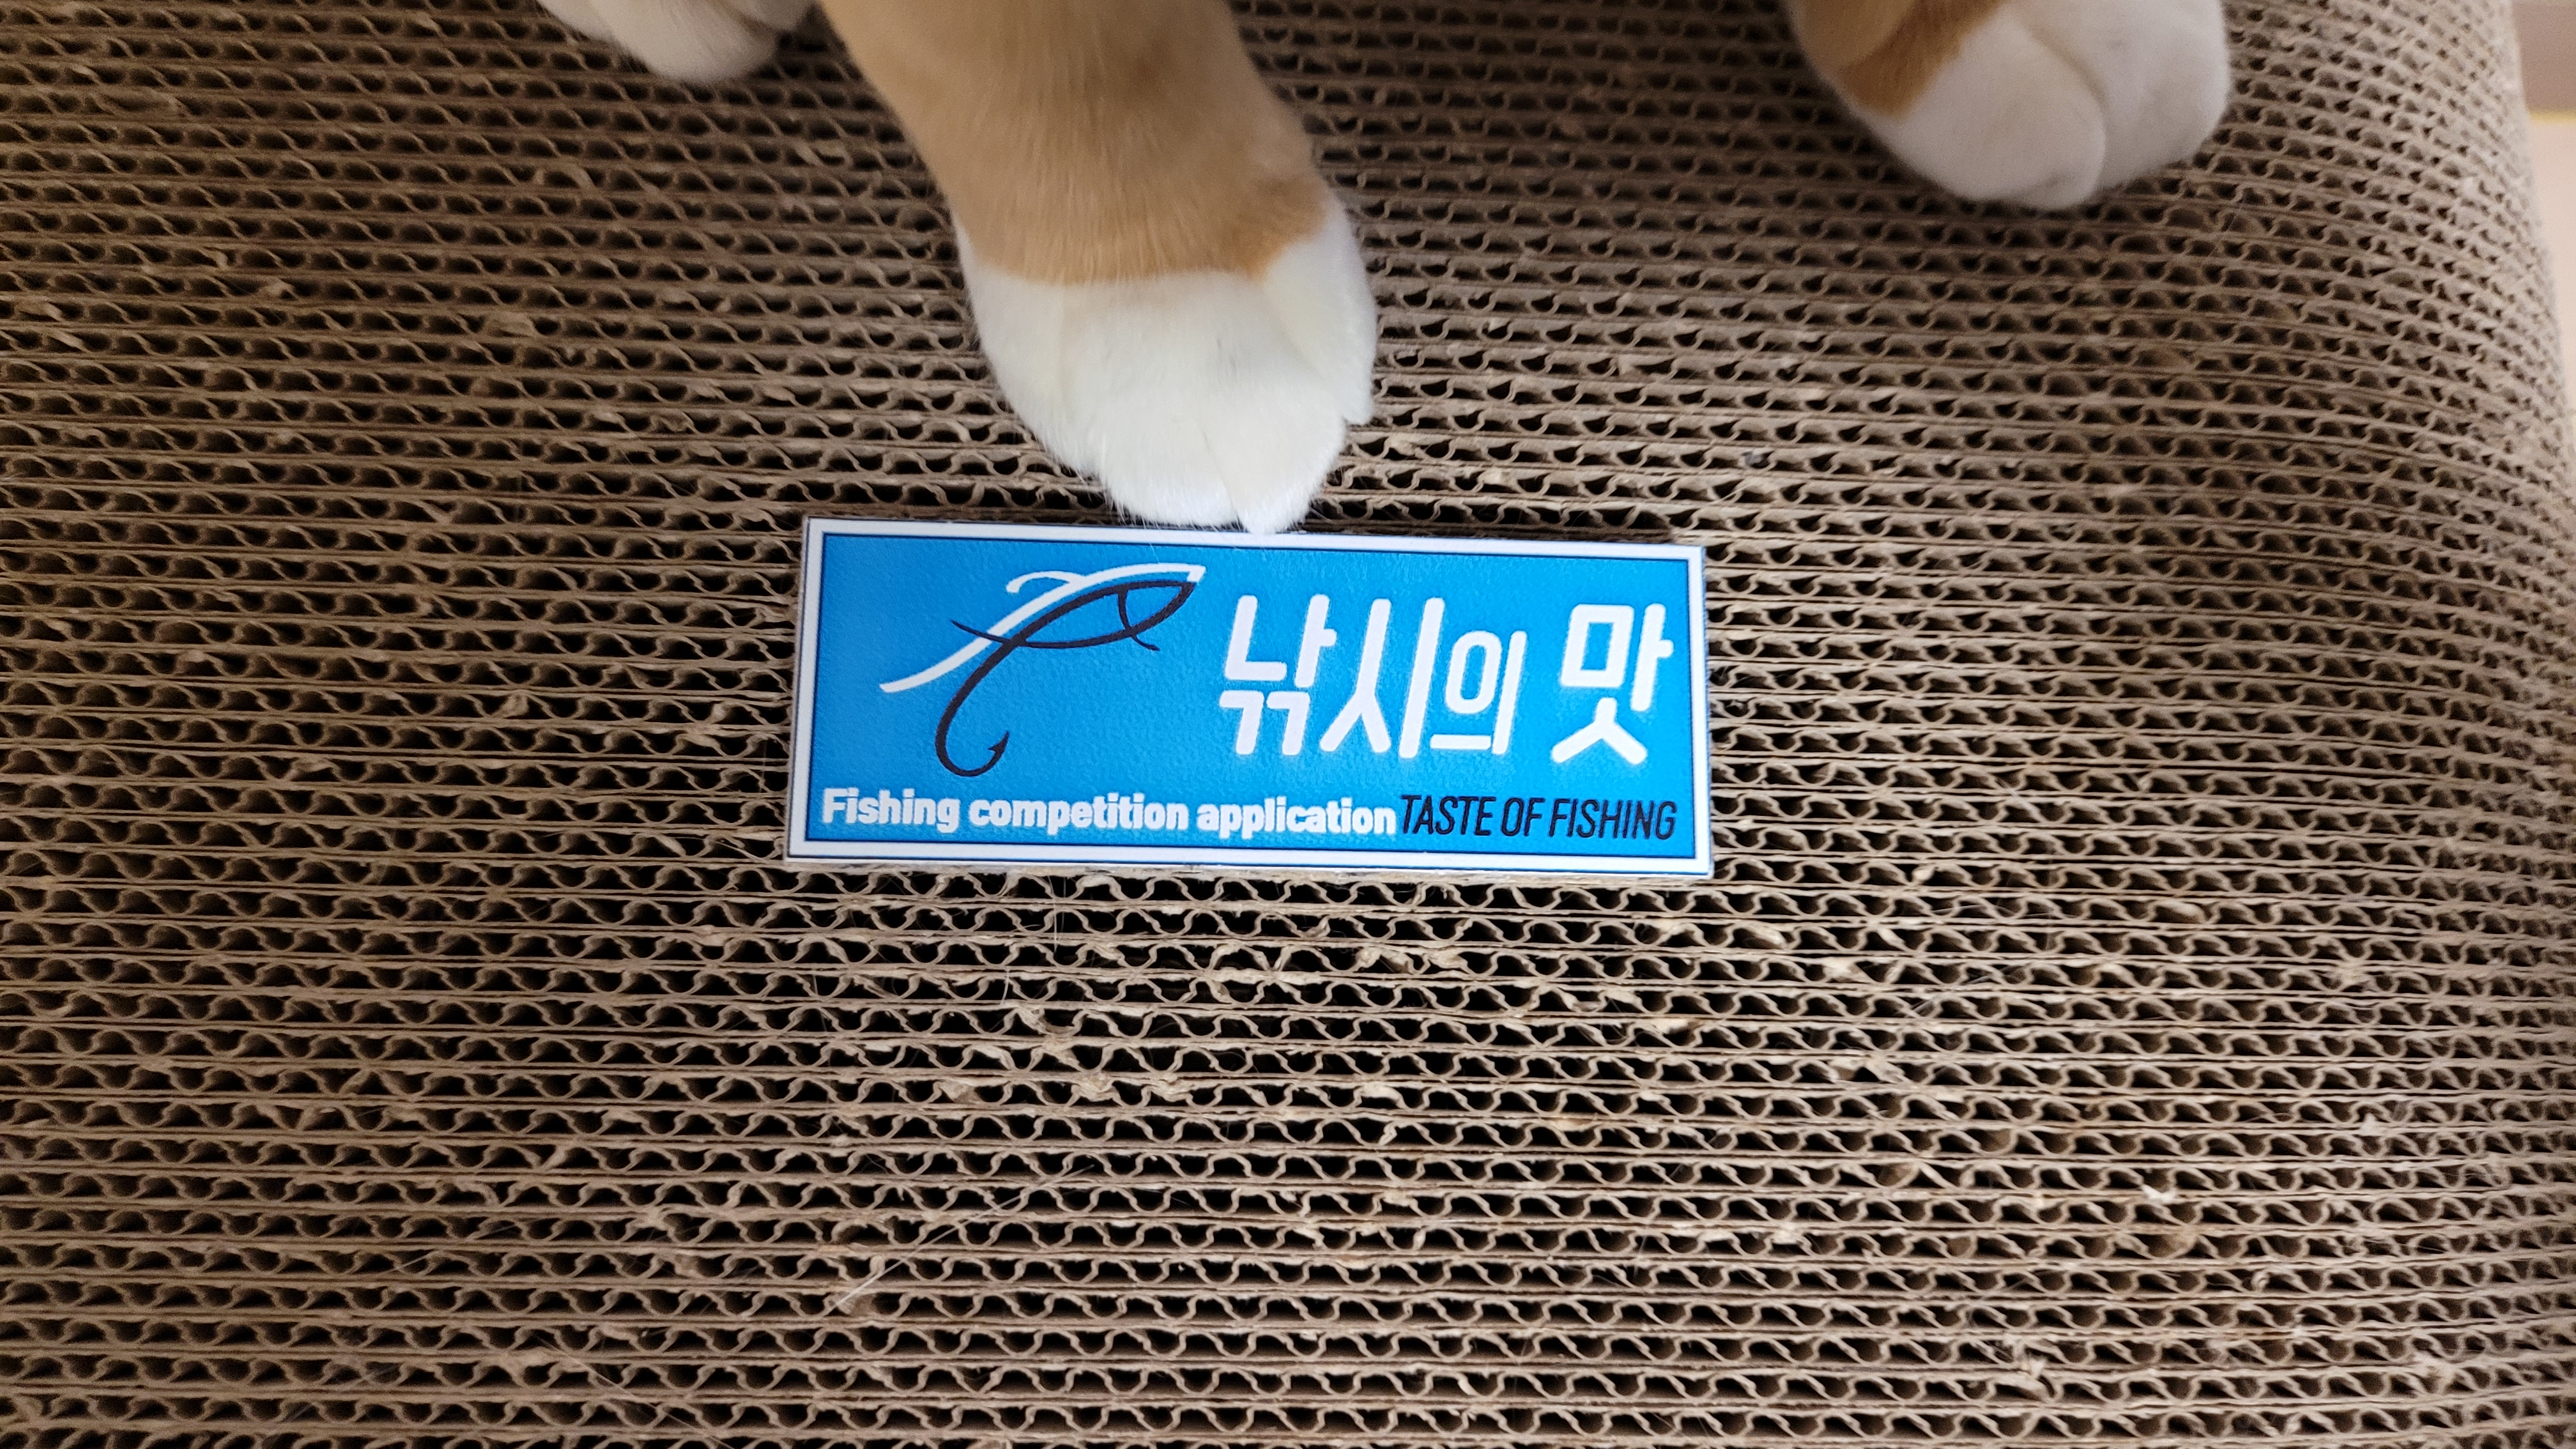tag: (793, 520, 1711, 888)
